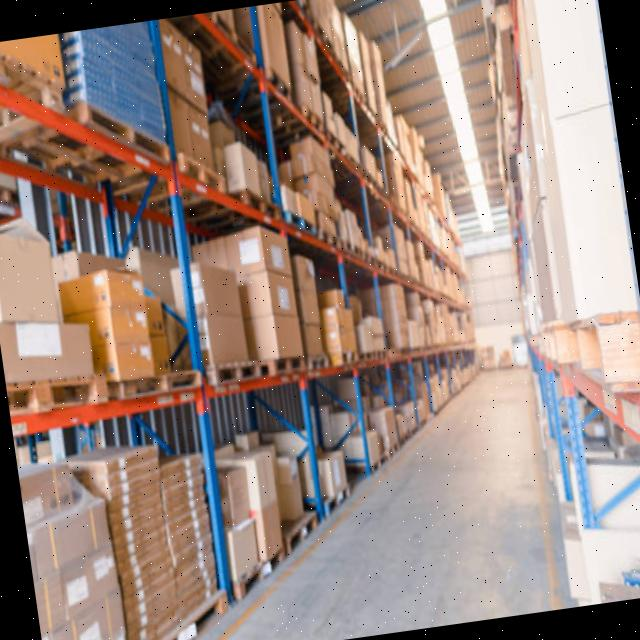Wooden-Pallets: (6, 375, 114, 420), (110, 364, 205, 406), (238, 538, 288, 603), (205, 348, 270, 393)
